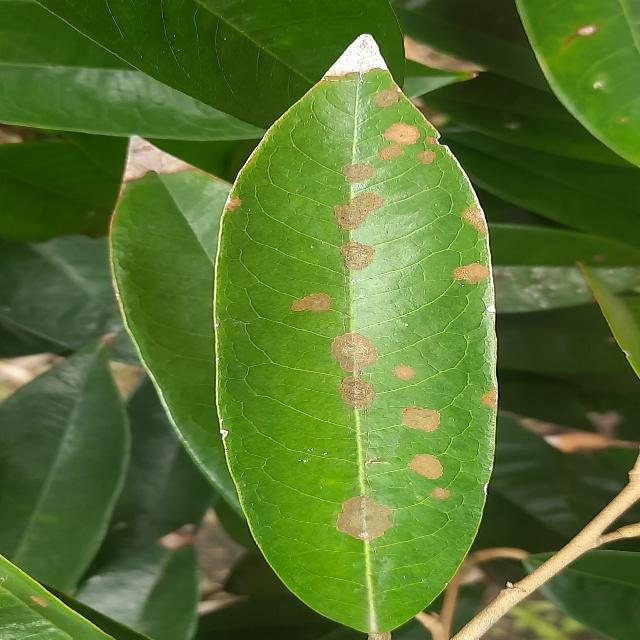Algal Leaf Spot: (202, 25, 503, 640)
